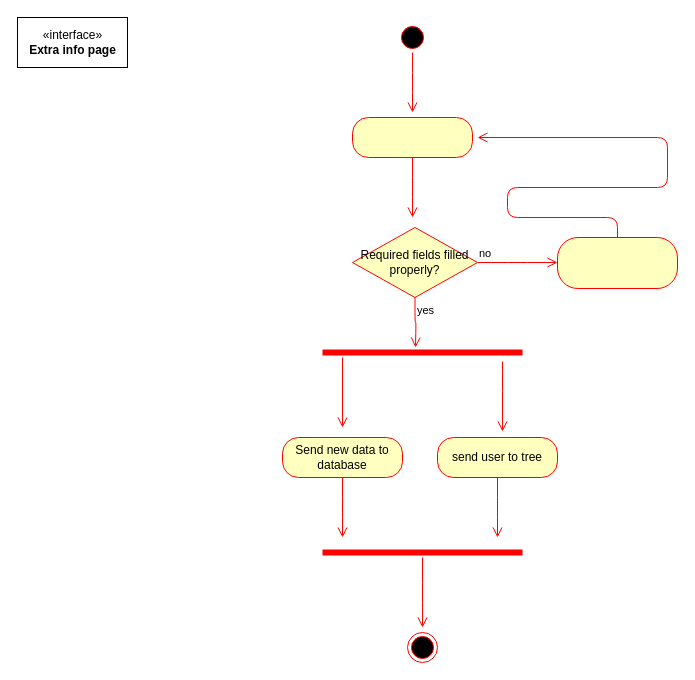
The diagram is 695 pixels wide and 680 high, and some of its shapes have lost their labels. Here are the shapes that lost their labels. From the top down, the centre of each, then its label:
(412,137): Fill in personal information
(617,262): Display Error message
